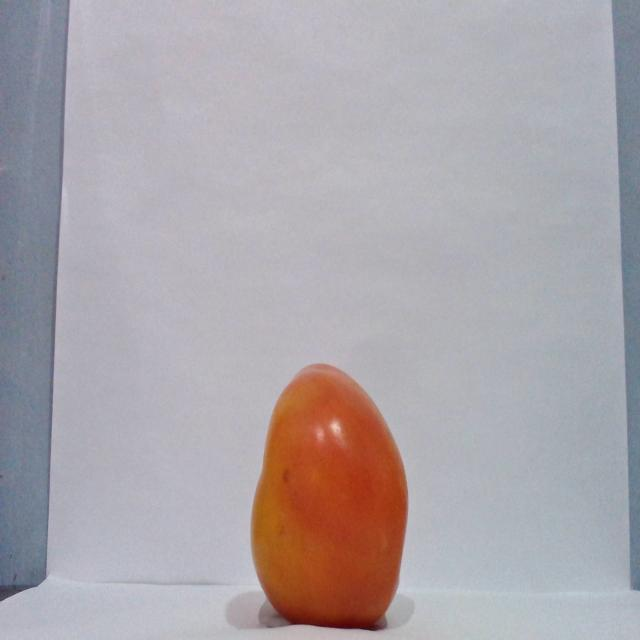Red: (248, 361, 409, 629)
